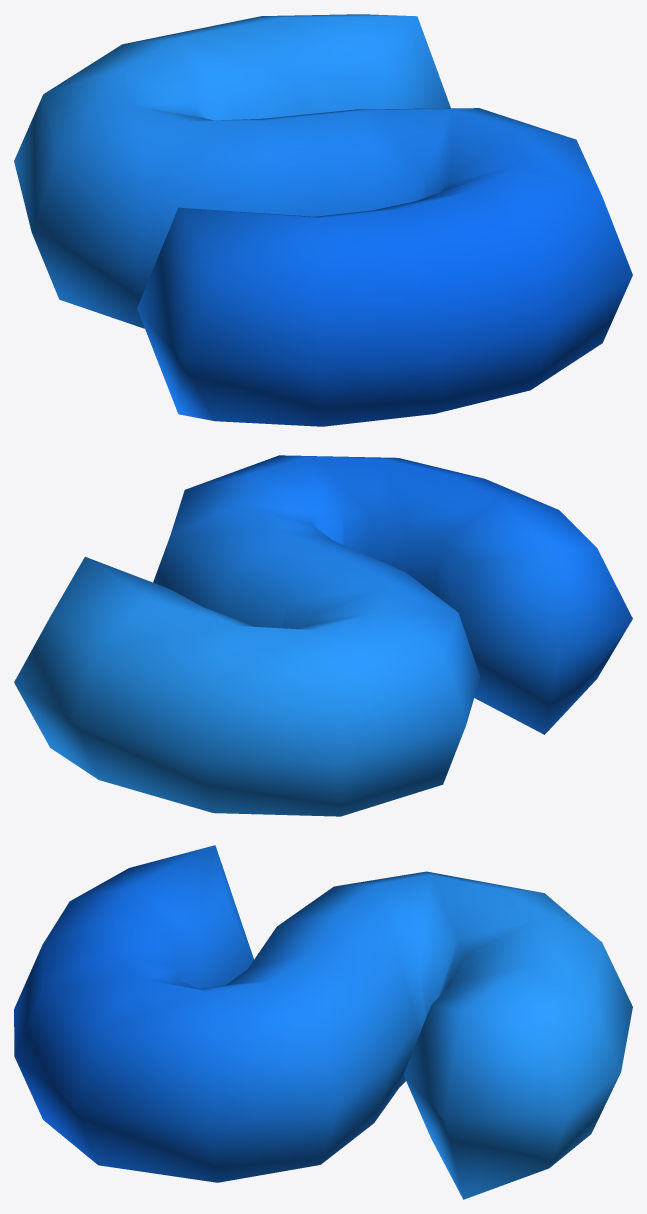
The model's file is CartoonFont_S.FBX.
3 views of the same model, one above another, from view 1: azimuth 30°, elevation 25°; view 2: azimuth 150°, elevation 25°; view 3: azimuth 270°, elevation 25° (orthographic). The views are drawn at different scales.
Visible parts, largest first — view 1: S; view 2: S; view 3: S.
Boxes of the visible parts, x1,y1,x2,y2 form: S: (14,14,632,426); S: (14,455,632,816); S: (14,845,632,1199).
Size of the model in its own units: 23.06 by 9.72 by 29.
1 material, 1 textured.
